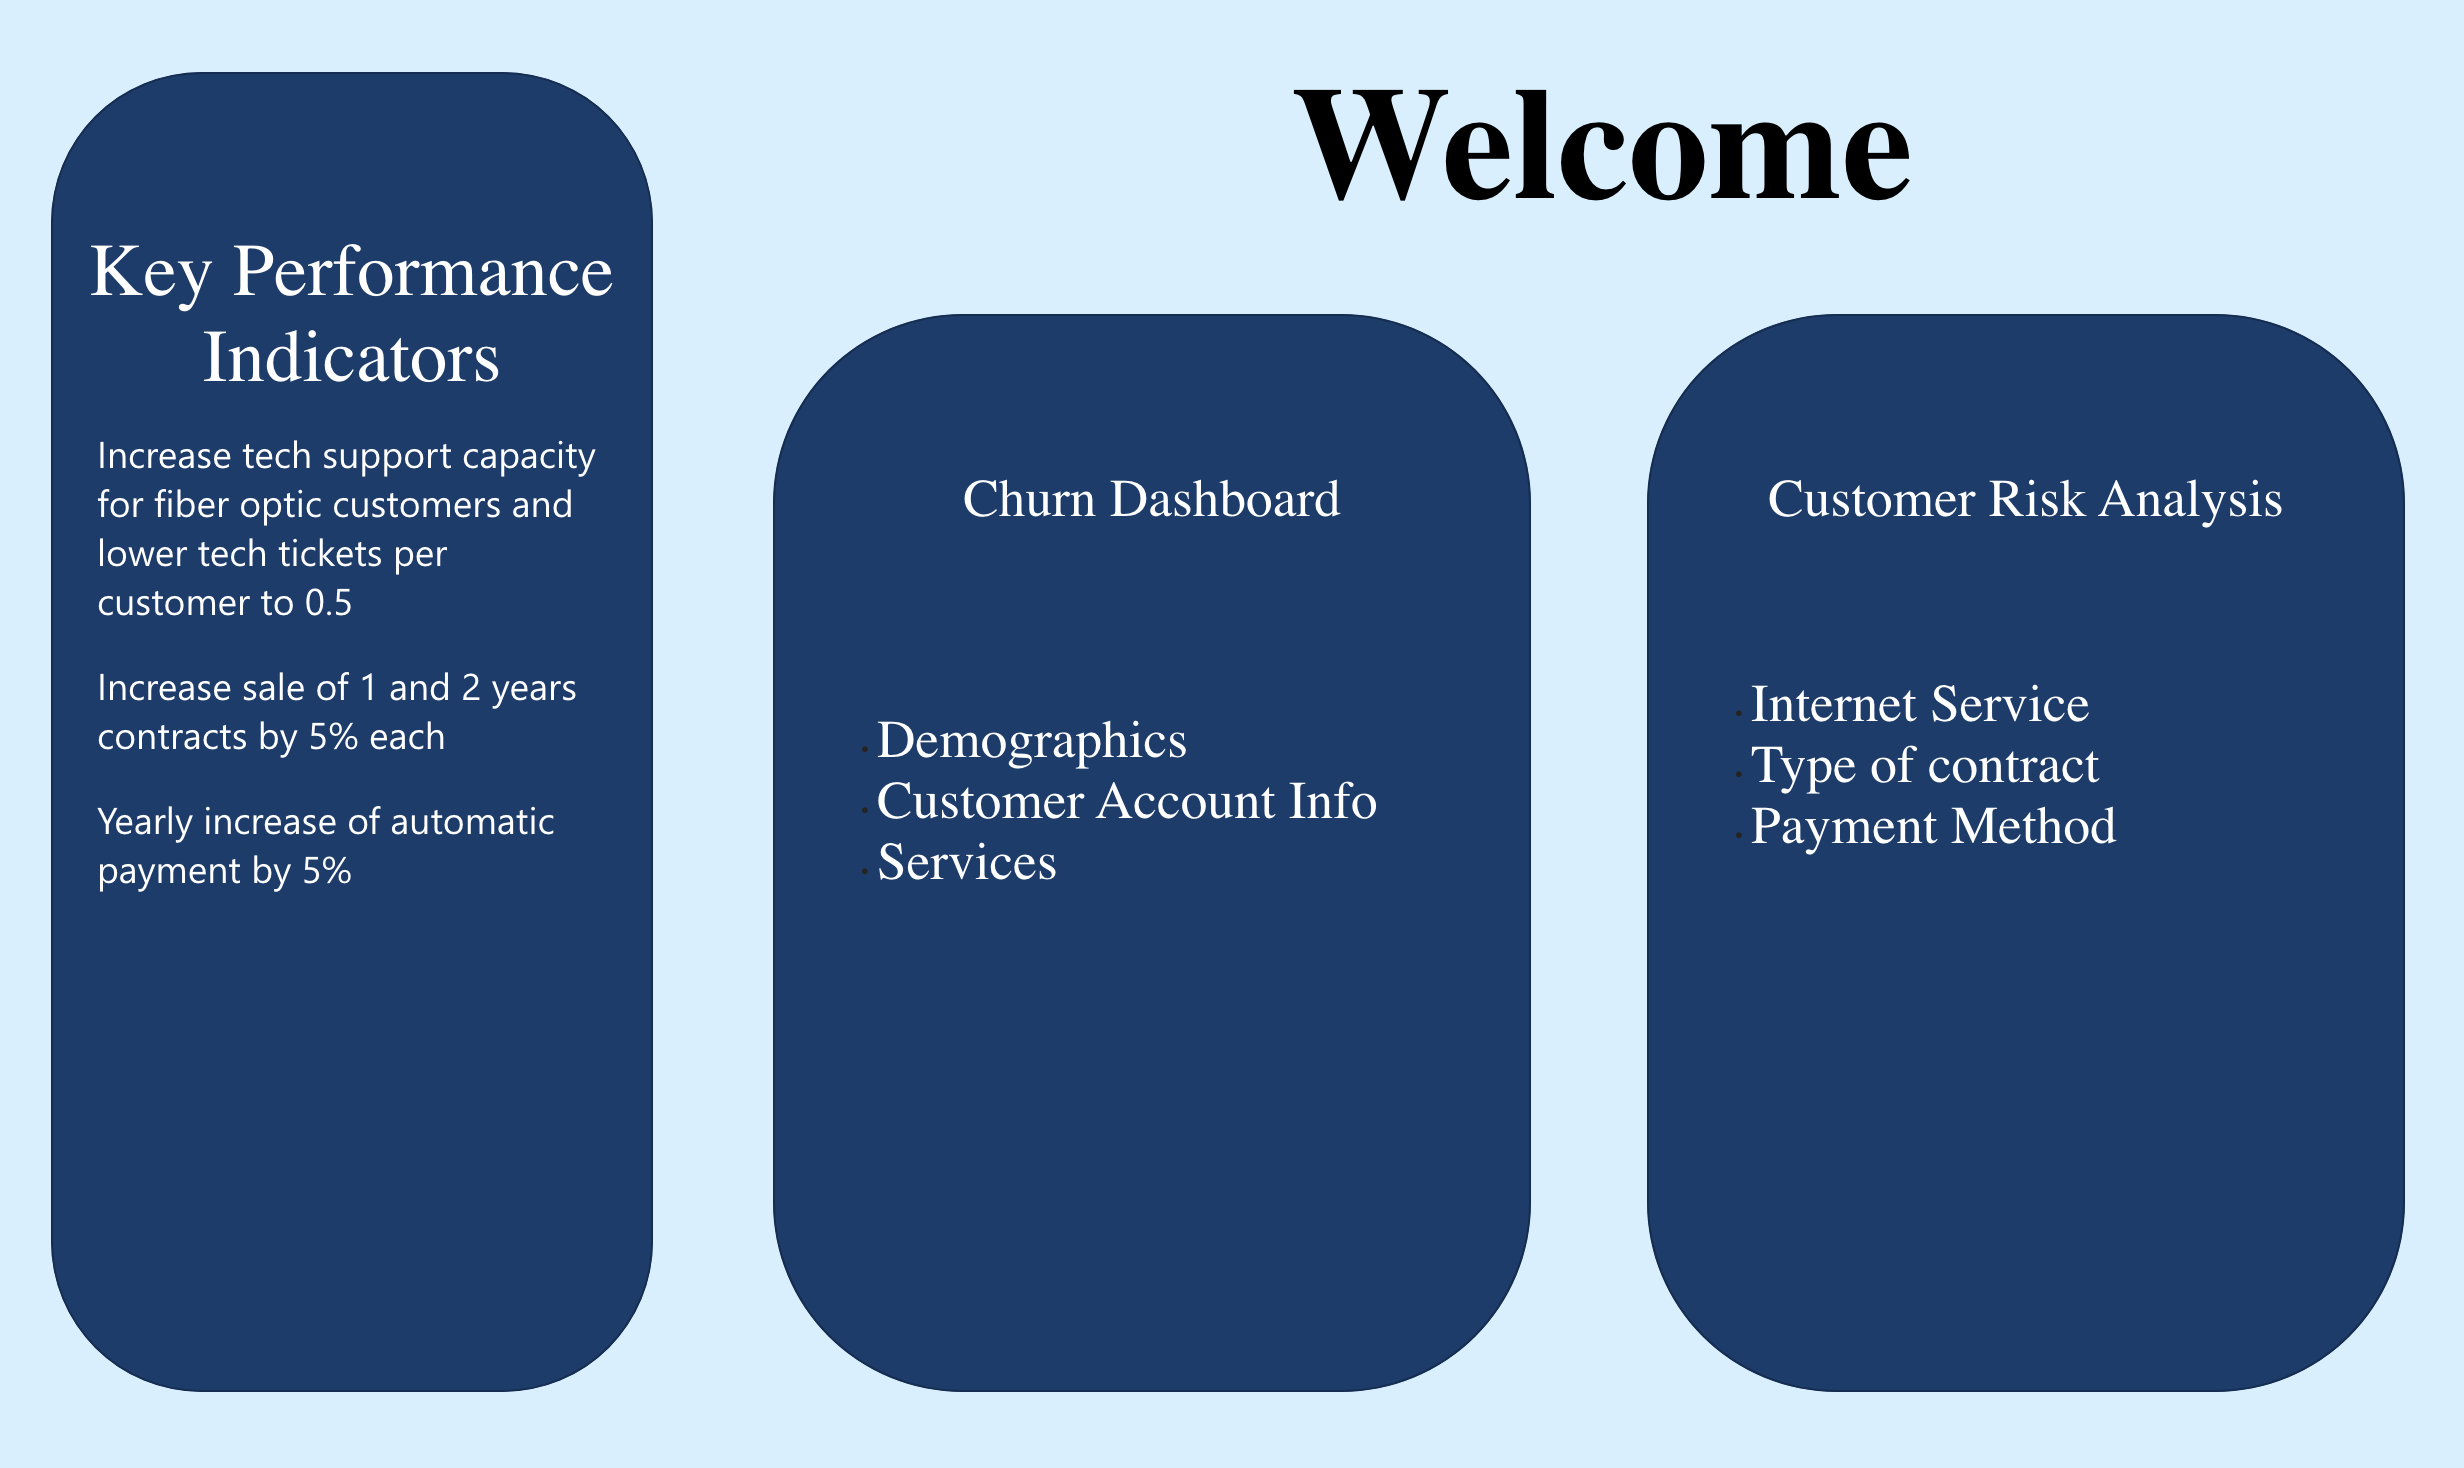

This screenshot's page, from the dashboard's own definition file:
{"tool":"powerbi","page":{"name":"Welcome","canvas":[1280,720],"ordinal":0},"visuals":[{"type":"textbox","box":[640,15.7,362.9,120],"z":0},{"type":"shape","box":[45.7,30,301.4,660],"z":1000},{"type":"shape","box":[407.1,151.4,378.6,538.6],"z":2000},{"type":"shape","box":[844.3,151.4,378.6,538.6],"z":3000},{"type":"textbox","box":[45.7,102.9,301.4,100],"z":4000},{"type":"textbox","box":[435.7,222.9,321.4,241.4],"z":5000},{"type":"textbox","box":[872.9,222.9,321.4,241.4],"z":6000},{"type":"textbox","box":[64.3,202.9,265.7,275.7],"z":7000}]}

Visuals, with their boxes on the page's 1280x720 design canvas (x1, y1, x2, y2). These are canvas units, not pixel positions in the 2464x1468 screenshot, which may show the page scaled, cropped or inside an application window:
textbox: <box>640,16,1003,136</box>
shape: <box>46,30,347,690</box>
shape: <box>407,151,786,690</box>
shape: <box>844,151,1223,690</box>
textbox: <box>46,103,347,203</box>
textbox: <box>436,223,757,464</box>
textbox: <box>873,223,1194,464</box>
textbox: <box>64,203,330,479</box>
